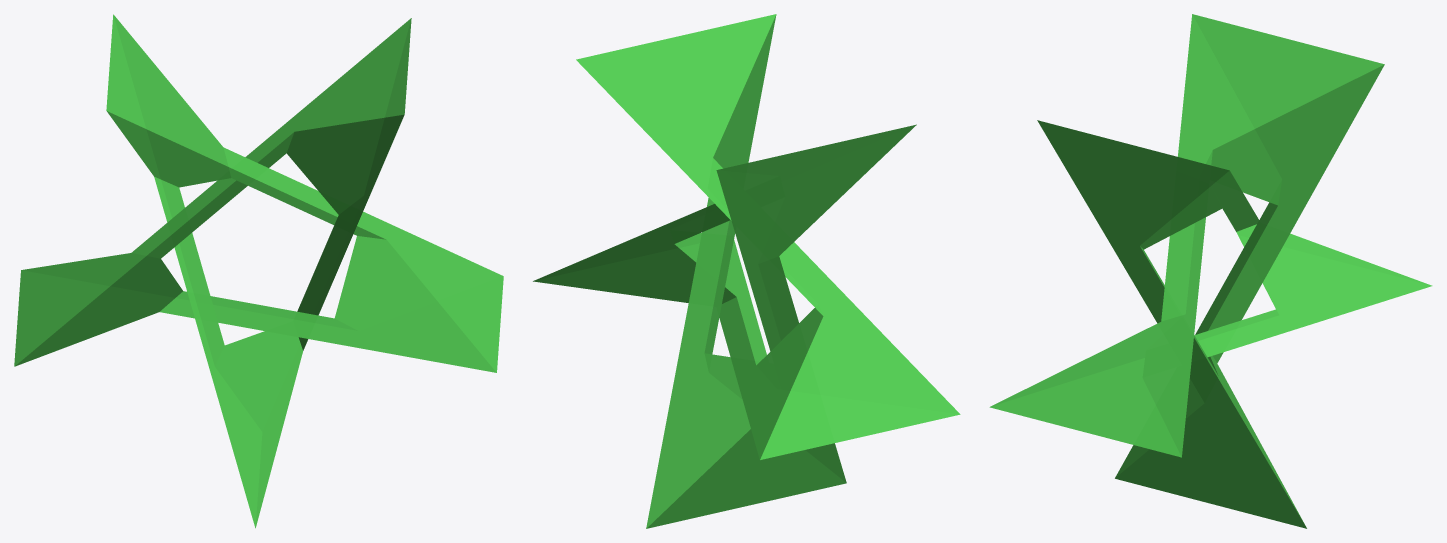
Rendered from HexagonalToroid_S.obj.
3 views of the same model, side by side, from view 1: azimuth 30°, elevation 25°; view 2: azimuth 150°, elevation 25°; view 3: azimuth 270°, elevation 25° (orthographic).
Size of the model in its own units: 15.7 by 13.57 by 13.26.
